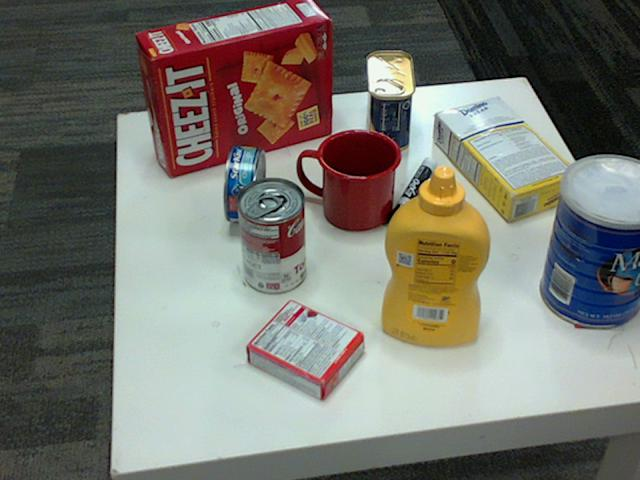cracker_box: (135, 0, 331, 174)
gelatin_box: (243, 299, 361, 402)
large_marker: (387, 160, 437, 226)
master_chef_can: (541, 155, 639, 329)
mug: (297, 127, 401, 229)
mustard_bottle: (380, 166, 491, 346)
potted_meat_can: (364, 52, 413, 151)
sugar_box: (433, 97, 581, 222)
tomato_soup_can: (236, 178, 306, 294)
tuna_fish_can: (222, 144, 265, 222)
